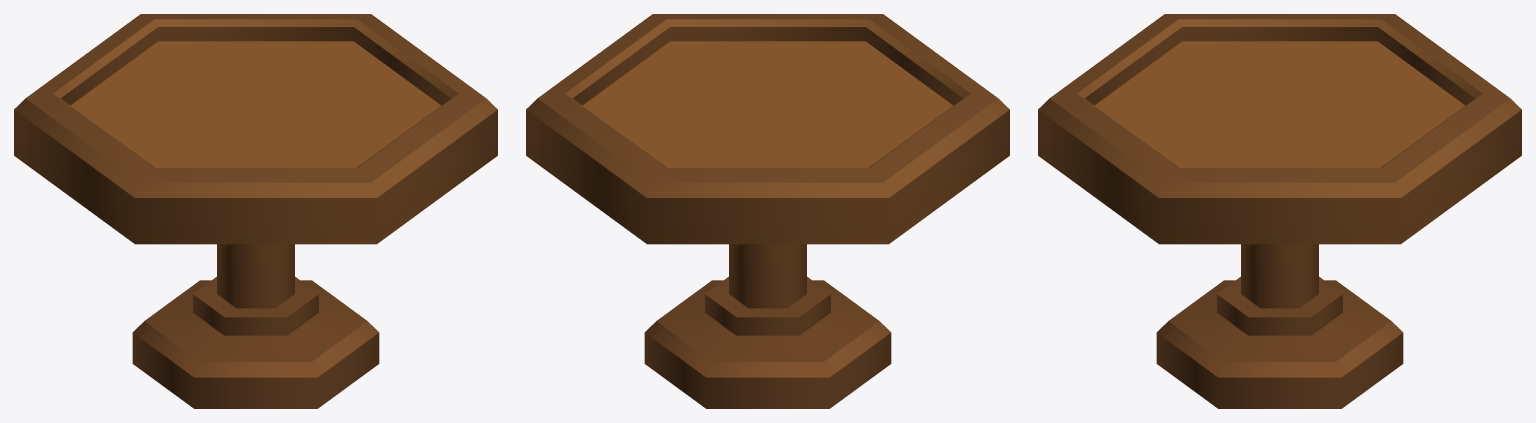
File: FoodProp_1_I.fbx
3 renders of one model, left to right at view 1: azimuth 30°, elevation 25°; view 2: azimuth 150°, elevation 25°; view 3: azimuth 270°, elevation 25°, orthographic.
Visible parts, largest first — view 1: FoodProp_1_I; view 2: FoodProp_1_I; view 3: FoodProp_1_I.
Boxes of the visible parts, <box> form: FoodProp_1_I: <box>14,14,497,408</box>; FoodProp_1_I: <box>526,14,1009,408</box>; FoodProp_1_I: <box>1038,14,1521,408</box>.
Size of the model in its own units: 49.95 by 35.54 by 57.67.
